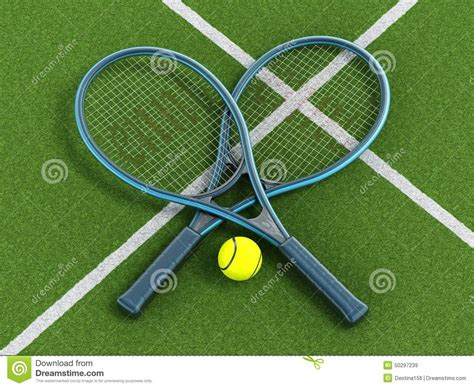tennis_ball: (217, 236, 262, 281)
